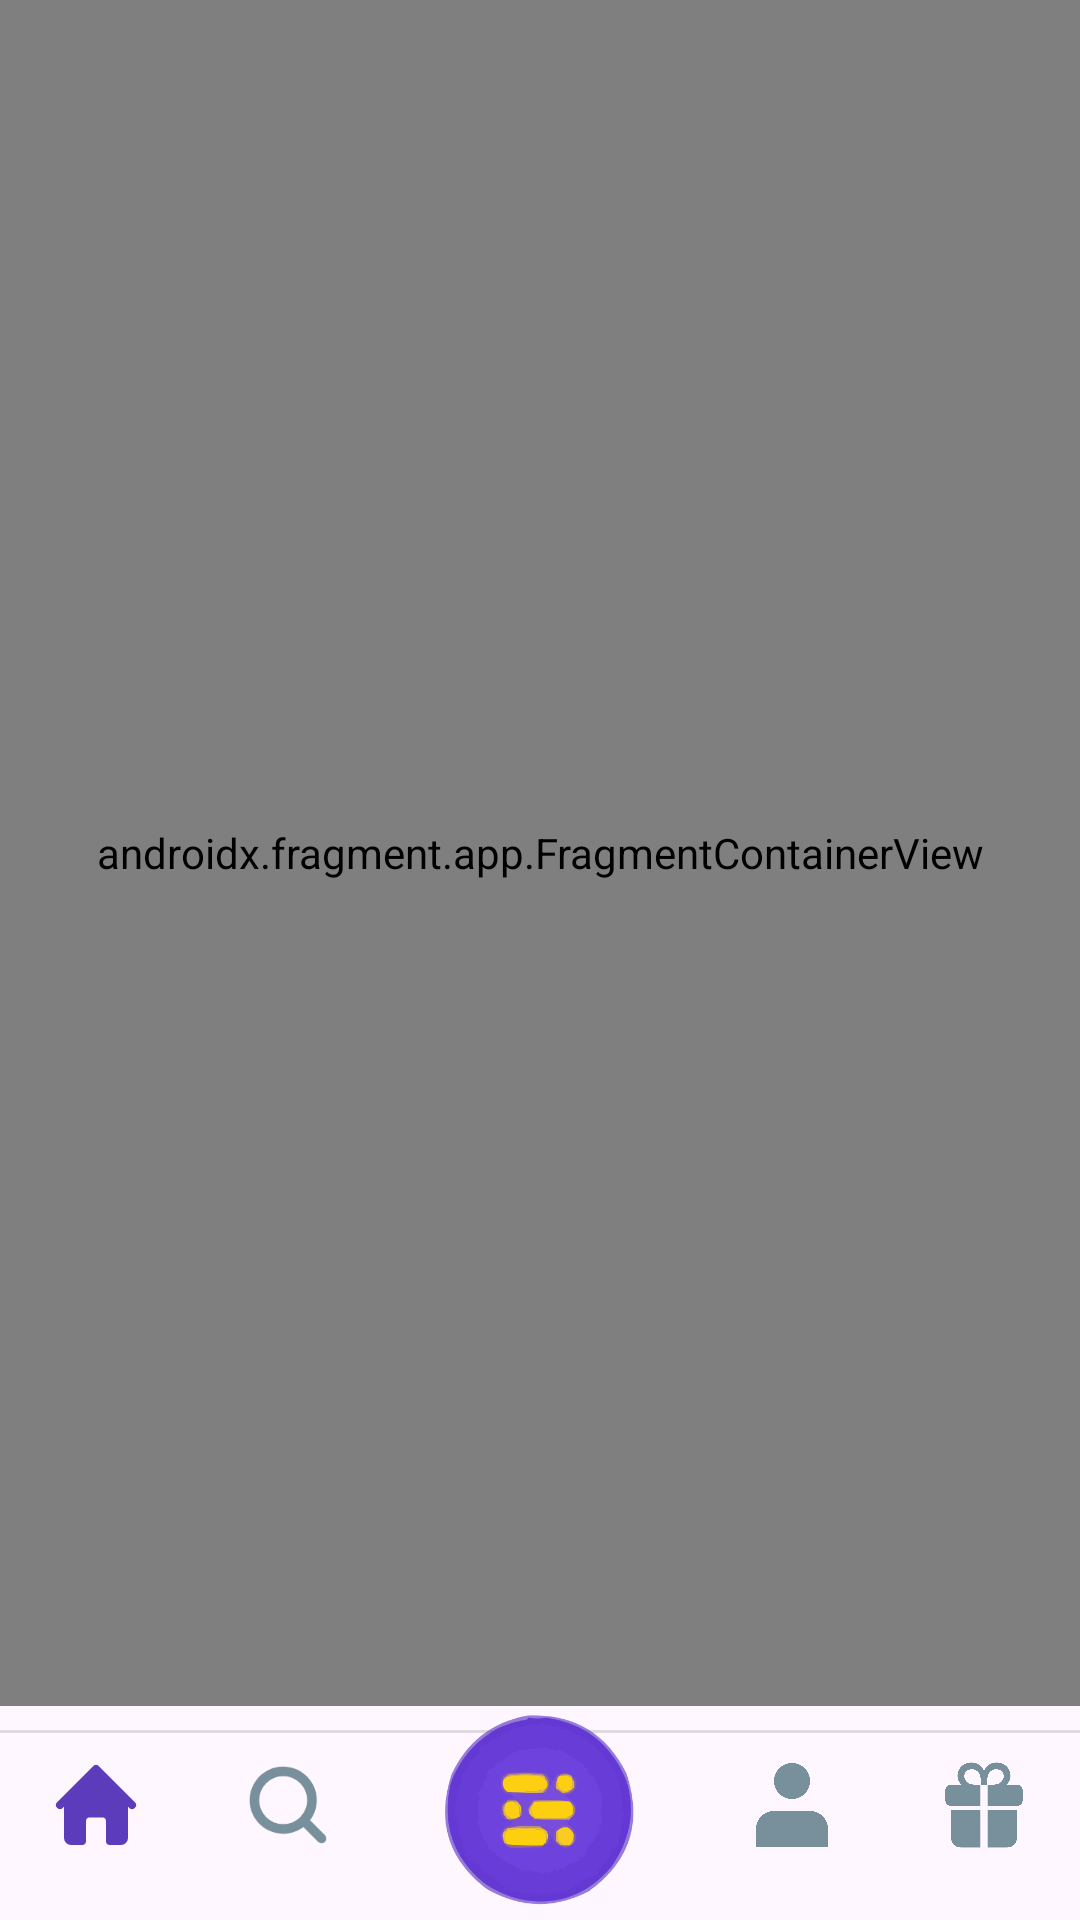

Where icons sit on this 1080 x 1920 app screen, as (x1, y1, x2, y2):
bottom nav campaign: (945, 1762, 1023, 1848)
bottom nav center: (432, 1715, 648, 1904)
bottom nav home: (56, 1765, 136, 1845)
bottom nav search: (249, 1766, 327, 1843)
bottom nav user: (756, 1763, 828, 1847)
